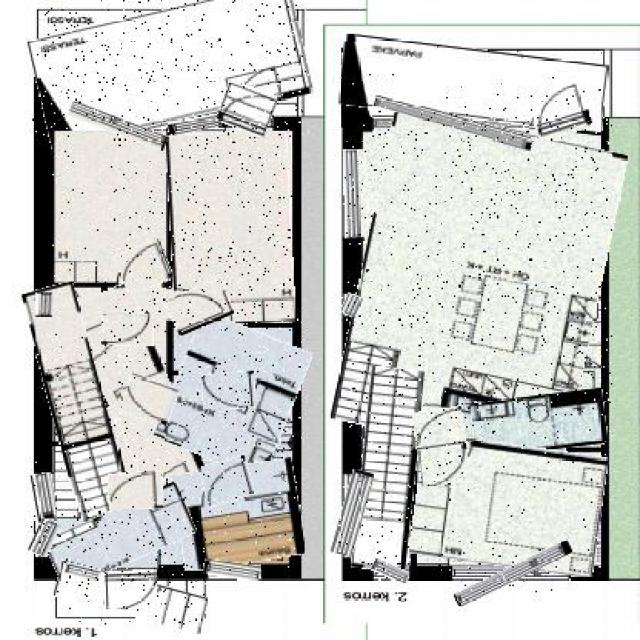door: (416, 408, 470, 486), (529, 80, 589, 137), (168, 283, 232, 331), (218, 83, 276, 134), (117, 243, 171, 291), (202, 458, 252, 504), (123, 379, 175, 423), (106, 571, 159, 609), (203, 371, 255, 409), (111, 474, 163, 509), (104, 316, 154, 346)
window: (374, 108, 534, 142), (452, 552, 576, 594), (68, 111, 168, 143), (337, 471, 368, 557), (343, 149, 368, 240), (30, 472, 56, 522), (31, 518, 57, 557), (205, 562, 260, 580), (168, 117, 218, 132), (372, 563, 410, 582), (65, 564, 100, 578), (342, 294, 362, 317), (36, 294, 52, 318)
zone: (346, 117, 612, 457), (33, 0, 310, 137), (413, 438, 604, 572), (170, 132, 292, 326), (91, 286, 194, 514), (342, 41, 609, 128), (165, 318, 303, 472), (37, 283, 120, 523), (52, 130, 166, 284), (174, 462, 301, 568), (357, 368, 420, 570), (46, 495, 194, 577), (472, 391, 606, 455), (56, 571, 206, 626)
